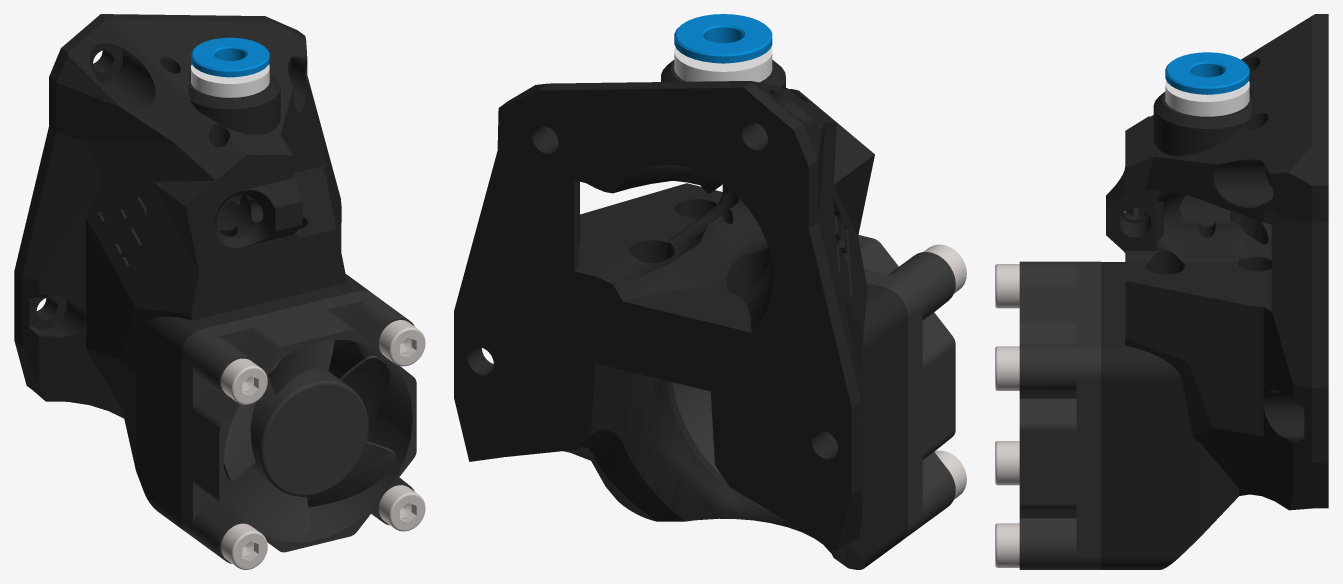
The model's file is E3NG_BOM_240820.glb.
The picture shows the model from 3 angles, left to right: view 1: azimuth 30°, elevation 25°; view 2: azimuth 150°, elevation 25°; view 3: azimuth 270°, elevation 25°; orthographic projection. The views are drawn at different scales.
Parts seen in each view (by area): view 1: V-ION_th-body_RapidoUHF-M-1, 3010_Fan, ECAS04_release, ECAS04_body, Hex_socket_head_cap_screw_M3x050_x_12004, Hex_socket_head_cap_screw_M3x050_x_12006, Hex_socket_head_cap_screw_M3x050_x_12002, Hex_socket_head_cap_screw_M3x050_x_12003; view 2: V-ION_th-body_RapidoUHF-M-1, 3010_Fan, ECAS04_release, ECAS04_body, Hex_socket_head_cap_screw_M3x050_x_12002, Hex_socket_head_cap_screw_M3x050_x_12006; view 3: V-ION_th-body_RapidoUHF-M-1, 3010_Fan, ECAS04_release, ECAS04_body, Hex_socket_head_cap_screw_M3x050_x_12003, Hex_socket_head_cap_screw_M3x050_x_12004, Hex_socket_head_cap_screw_M3x050_x_12002, Hex_socket_head_cap_screw_M3x050_x_12006.
Part boxes in pixels (bbox=[...]): V-ION_th-body_RapidoUHF-M-1: bbox=[14, 14, 370, 532]; 3010_Fan: bbox=[181, 290, 416, 563]; ECAS04_release: bbox=[191, 37, 269, 77]; ECAS04_body: bbox=[191, 64, 269, 97]; Hex_socket_head_cap_screw_M3x050_x_12004: bbox=[379, 485, 425, 531]; Hex_socket_head_cap_screw_M3x050_x_12006: bbox=[221, 523, 267, 569]; Hex_socket_head_cap_screw_M3x050_x_12002: bbox=[221, 358, 267, 404]; Hex_socket_head_cap_screw_M3x050_x_12003: bbox=[379, 320, 425, 366]; V-ION_th-body_RapidoUHF-M-1: bbox=[454, 60, 908, 569]; 3010_Fan: bbox=[672, 235, 955, 540]; ECAS04_release: bbox=[674, 14, 772, 63]; ECAS04_body: bbox=[674, 47, 772, 82]; Hex_socket_head_cap_screw_M3x050_x_12002: bbox=[923, 244, 966, 293]; Hex_socket_head_cap_screw_M3x050_x_12006: bbox=[934, 450, 966, 499]; V-ION_th-body_RapidoUHF-M-1: bbox=[1101, 14, 1328, 569]; 3010_Fan: bbox=[1019, 261, 1100, 569]; ECAS04_release: bbox=[1165, 52, 1249, 94]; ECAS04_body: bbox=[1165, 81, 1249, 116]; Hex_socket_head_cap_screw_M3x050_x_12003: bbox=[995, 346, 1019, 390]; Hex_socket_head_cap_screw_M3x050_x_12004: bbox=[995, 523, 1019, 567]; Hex_socket_head_cap_screw_M3x050_x_12002: bbox=[995, 264, 1019, 308]; Hex_socket_head_cap_screw_M3x050_x_12006: bbox=[995, 441, 1019, 485].
Size of the model in its own units: 0.0485 by 0.0643 by 0.041.
